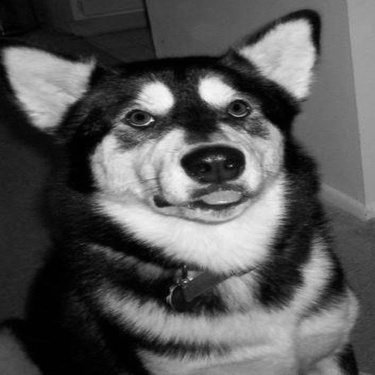dog: (1, 7, 367, 370)
